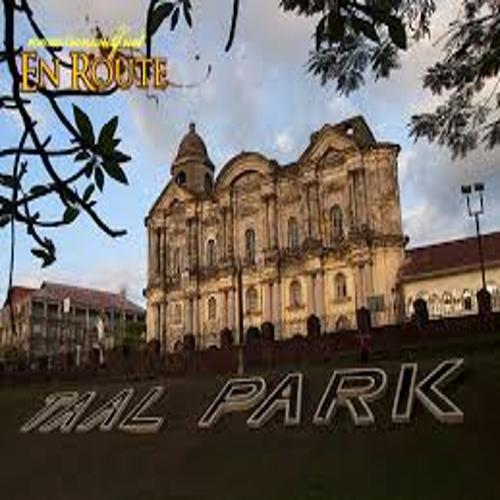Taal Basilica Church: (132, 104, 420, 340)
